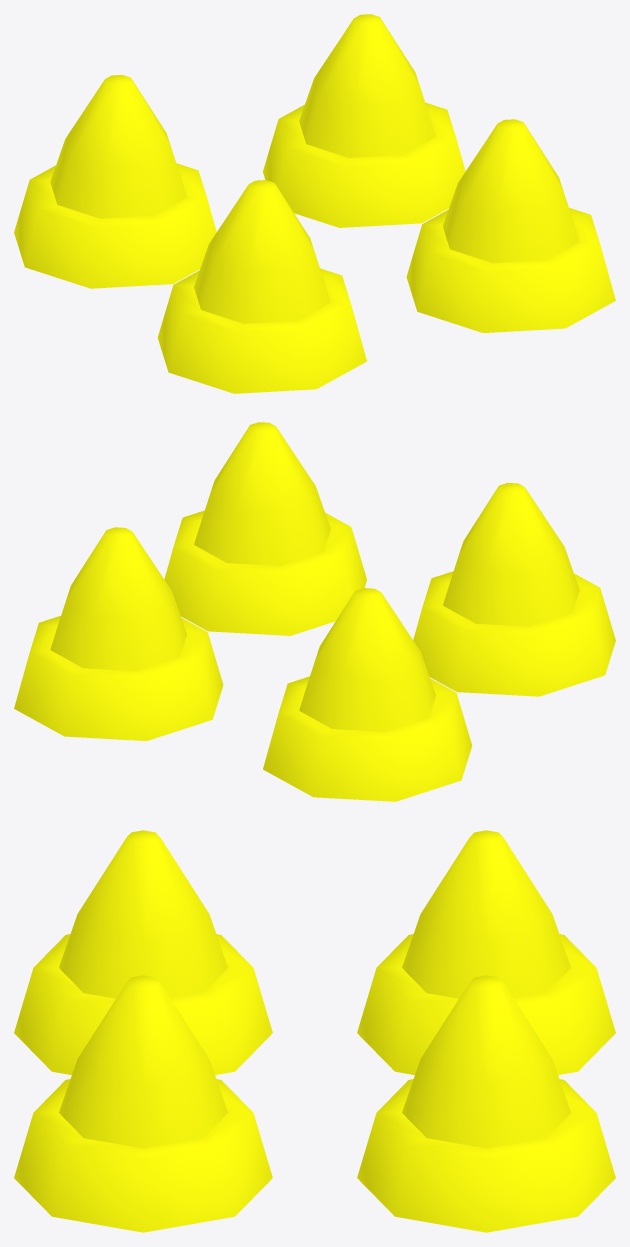
Rendered from 装饰道具_陷阱.glb.
3 renders of one model, top to bottom at view 1: azimuth 30°, elevation 25°; view 2: azimuth 150°, elevation 25°; view 3: azimuth 270°, elevation 25°, orthographic. The views are drawn at different scales.
Parts seen in each view (by area): view 1: trap, spikes; view 2: trap, spikes; view 3: spikes, trap.
Part boxes in pixels (x1,y1,x2,y2): trap: (14,102,615,393); spikes: (50,14,579,323); trap: (14,510,615,801); spikes: (50,422,579,731); spikes: (59,830,570,1148); trap: (14,934,615,1232).
Bounding box in the file's own units: 0.7897 × 0.2831 × 0.7897.
1 material, 1 textured.
